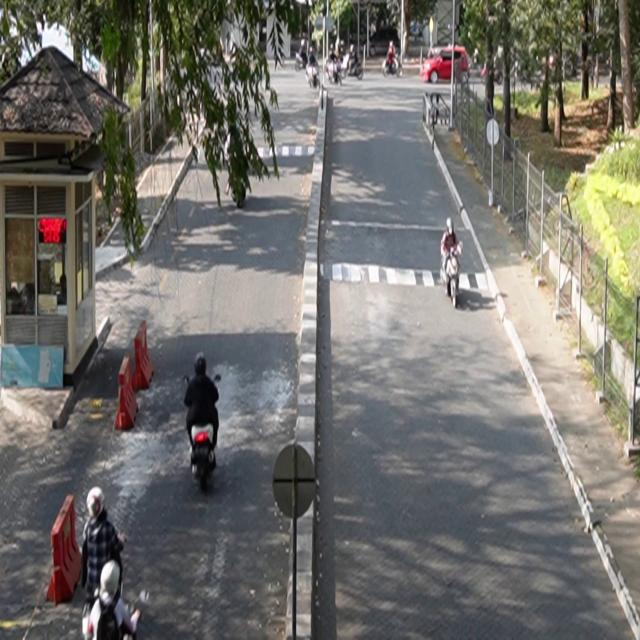car: (421, 46, 471, 85)
